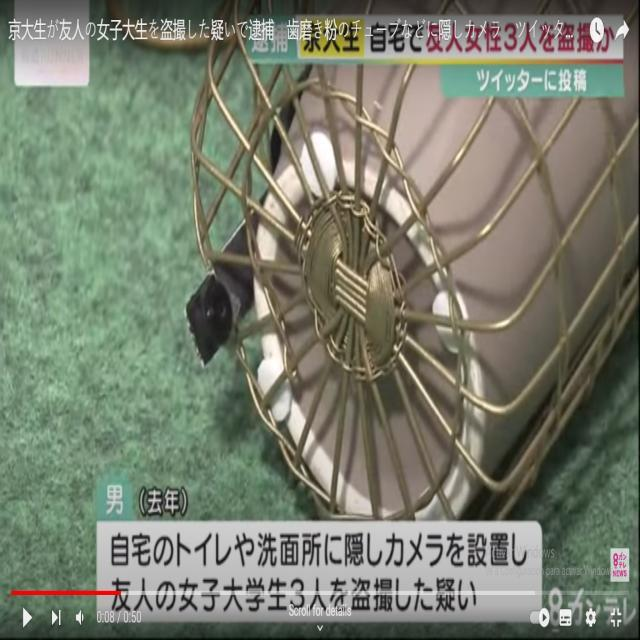hidden camera: (216, 295, 227, 318)
